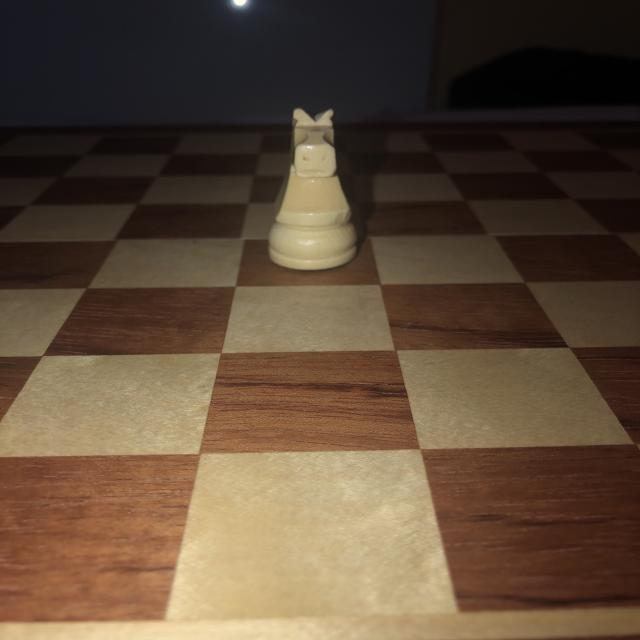white_knight: (263, 103, 362, 275)
